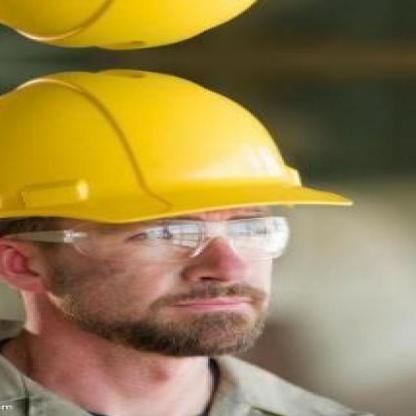capacete: (0, 68, 338, 211)
oculos: (11, 217, 296, 267)
